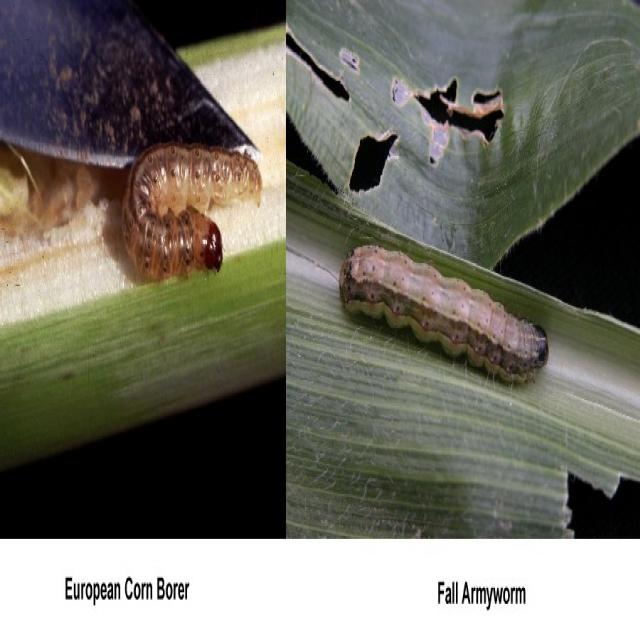cornborer-Larva-: (335, 232, 554, 396), (114, 133, 267, 284)
